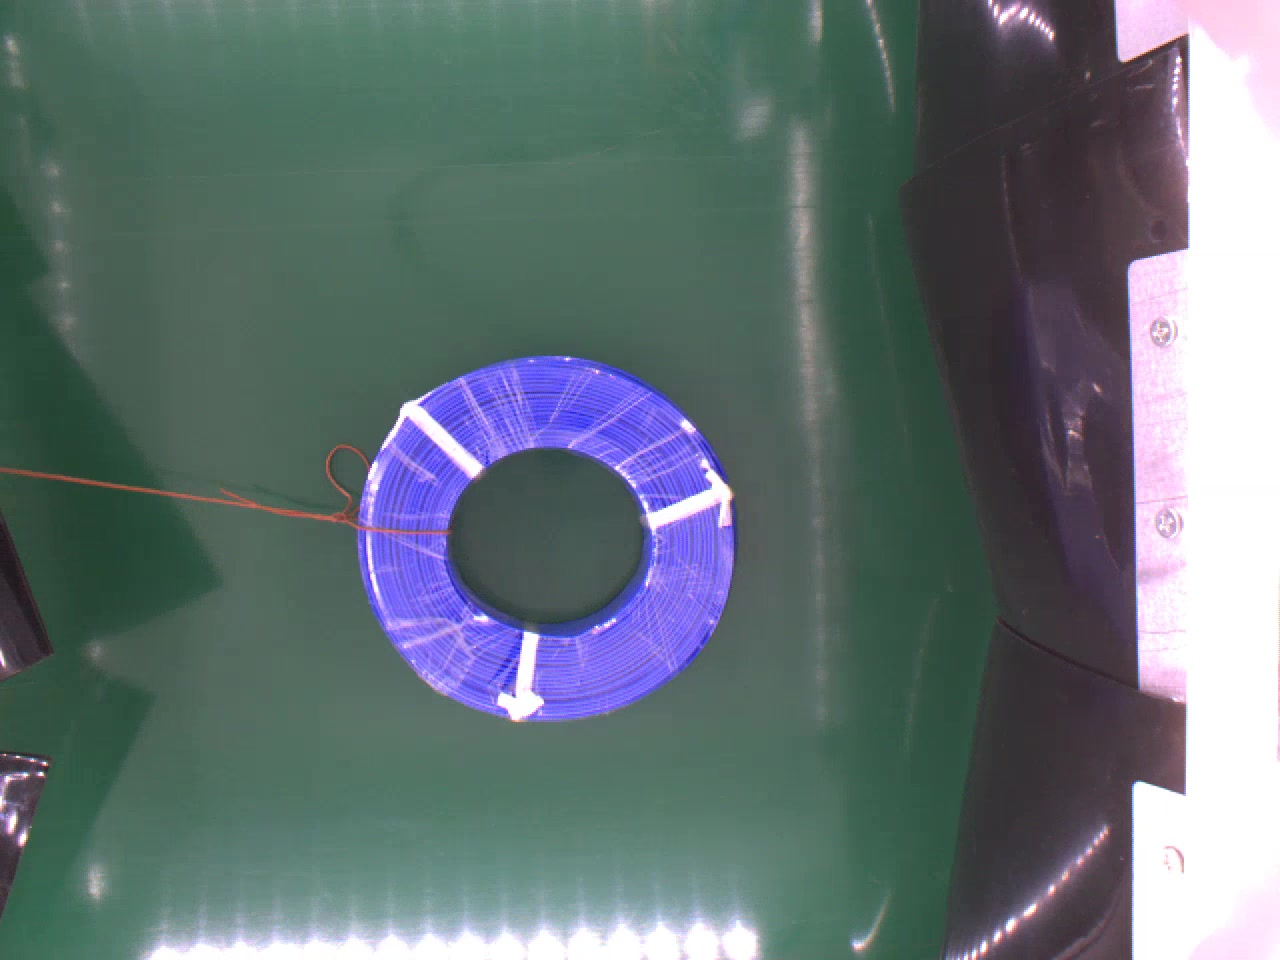blue: (355, 355, 735, 725)
